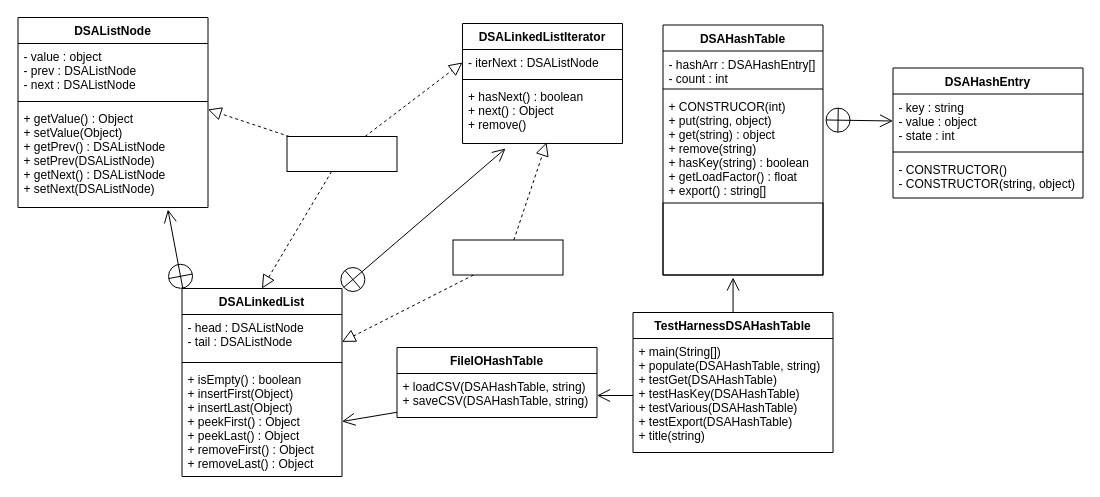
Some shapes in this 1100 by 497 pixel diagram are drawn without their labels. Here are the shapes that lost their labels. From the top down, the centre of each, then its label:
At point 341,154: "<<Interface>> Serializable".
At point 507,257: "<<Interface>> Iterable".
At point 742,238: "- hash(string) : int - resize(int) - stepHash(int) : int - nextPrime(int) : int".
